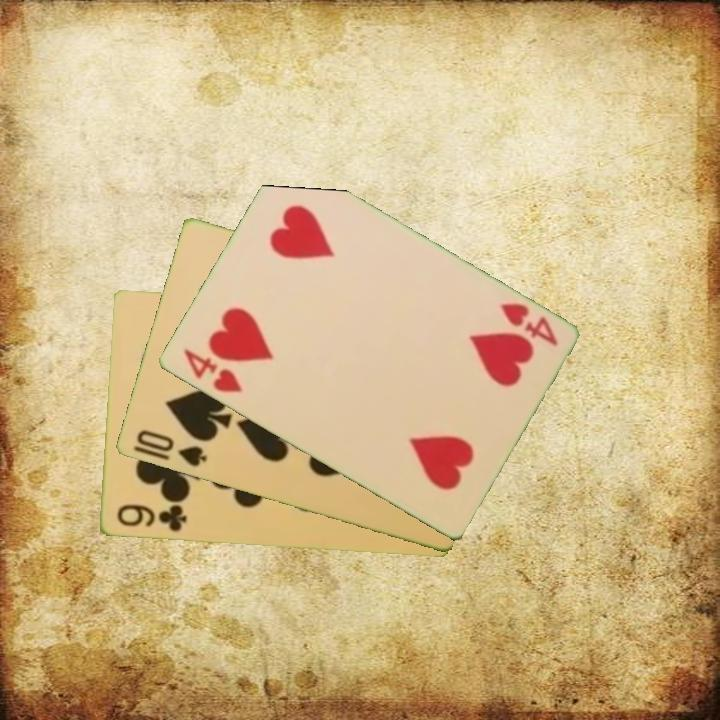10s: (132, 426, 209, 470)
4h: (179, 345, 245, 396), (496, 299, 561, 349)
9c: (113, 501, 189, 535)
